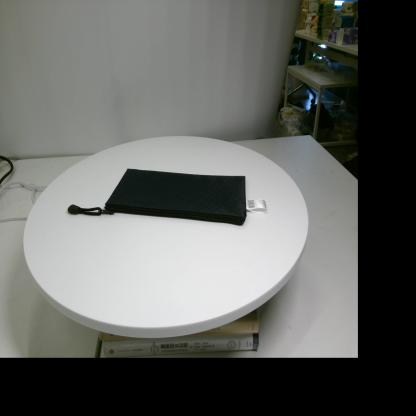Stationery: (67, 168, 267, 226)
